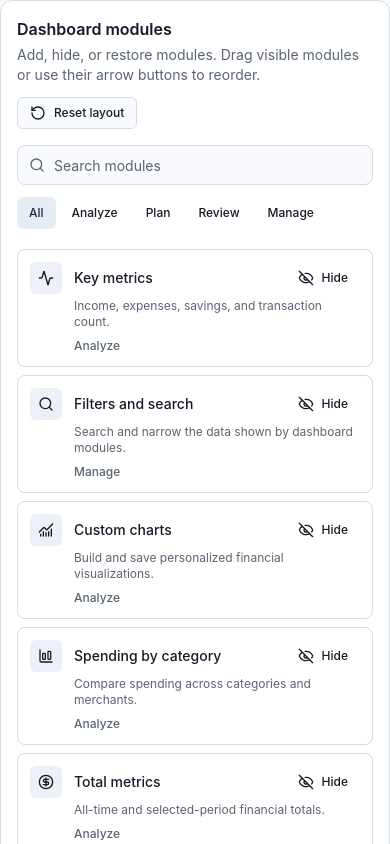
Test: DashboardCustomizationPanel › searches the full module catalog and toggles visibility
The image size is (390, 844).
In the field named "Search dashboard modules": (195, 165) [17, 145, 373, 185], type "wealth"
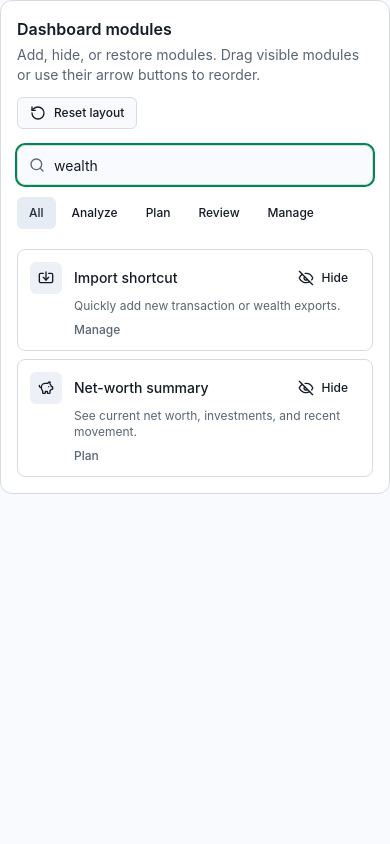
expect the heading "Net-worth summary" is shown: met, box [74, 378, 209, 398]
Click the button with aria-label "Hide Net-worth summary": (323, 388) [286, 372, 360, 404]
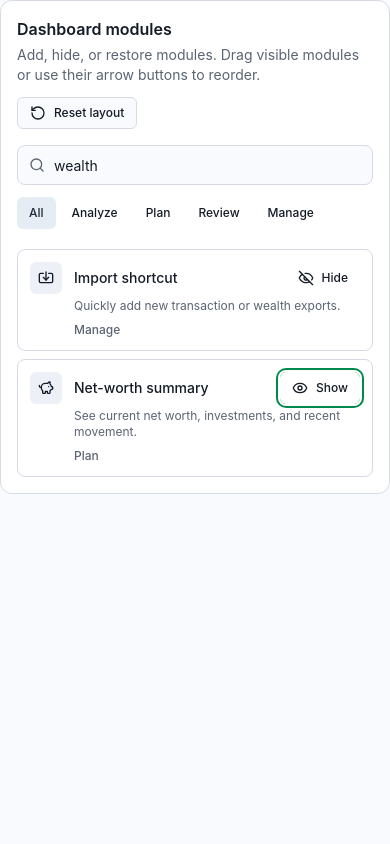
expect the button with aria-label "Show Net-worth summary" is shown: met, box [280, 372, 360, 404]
